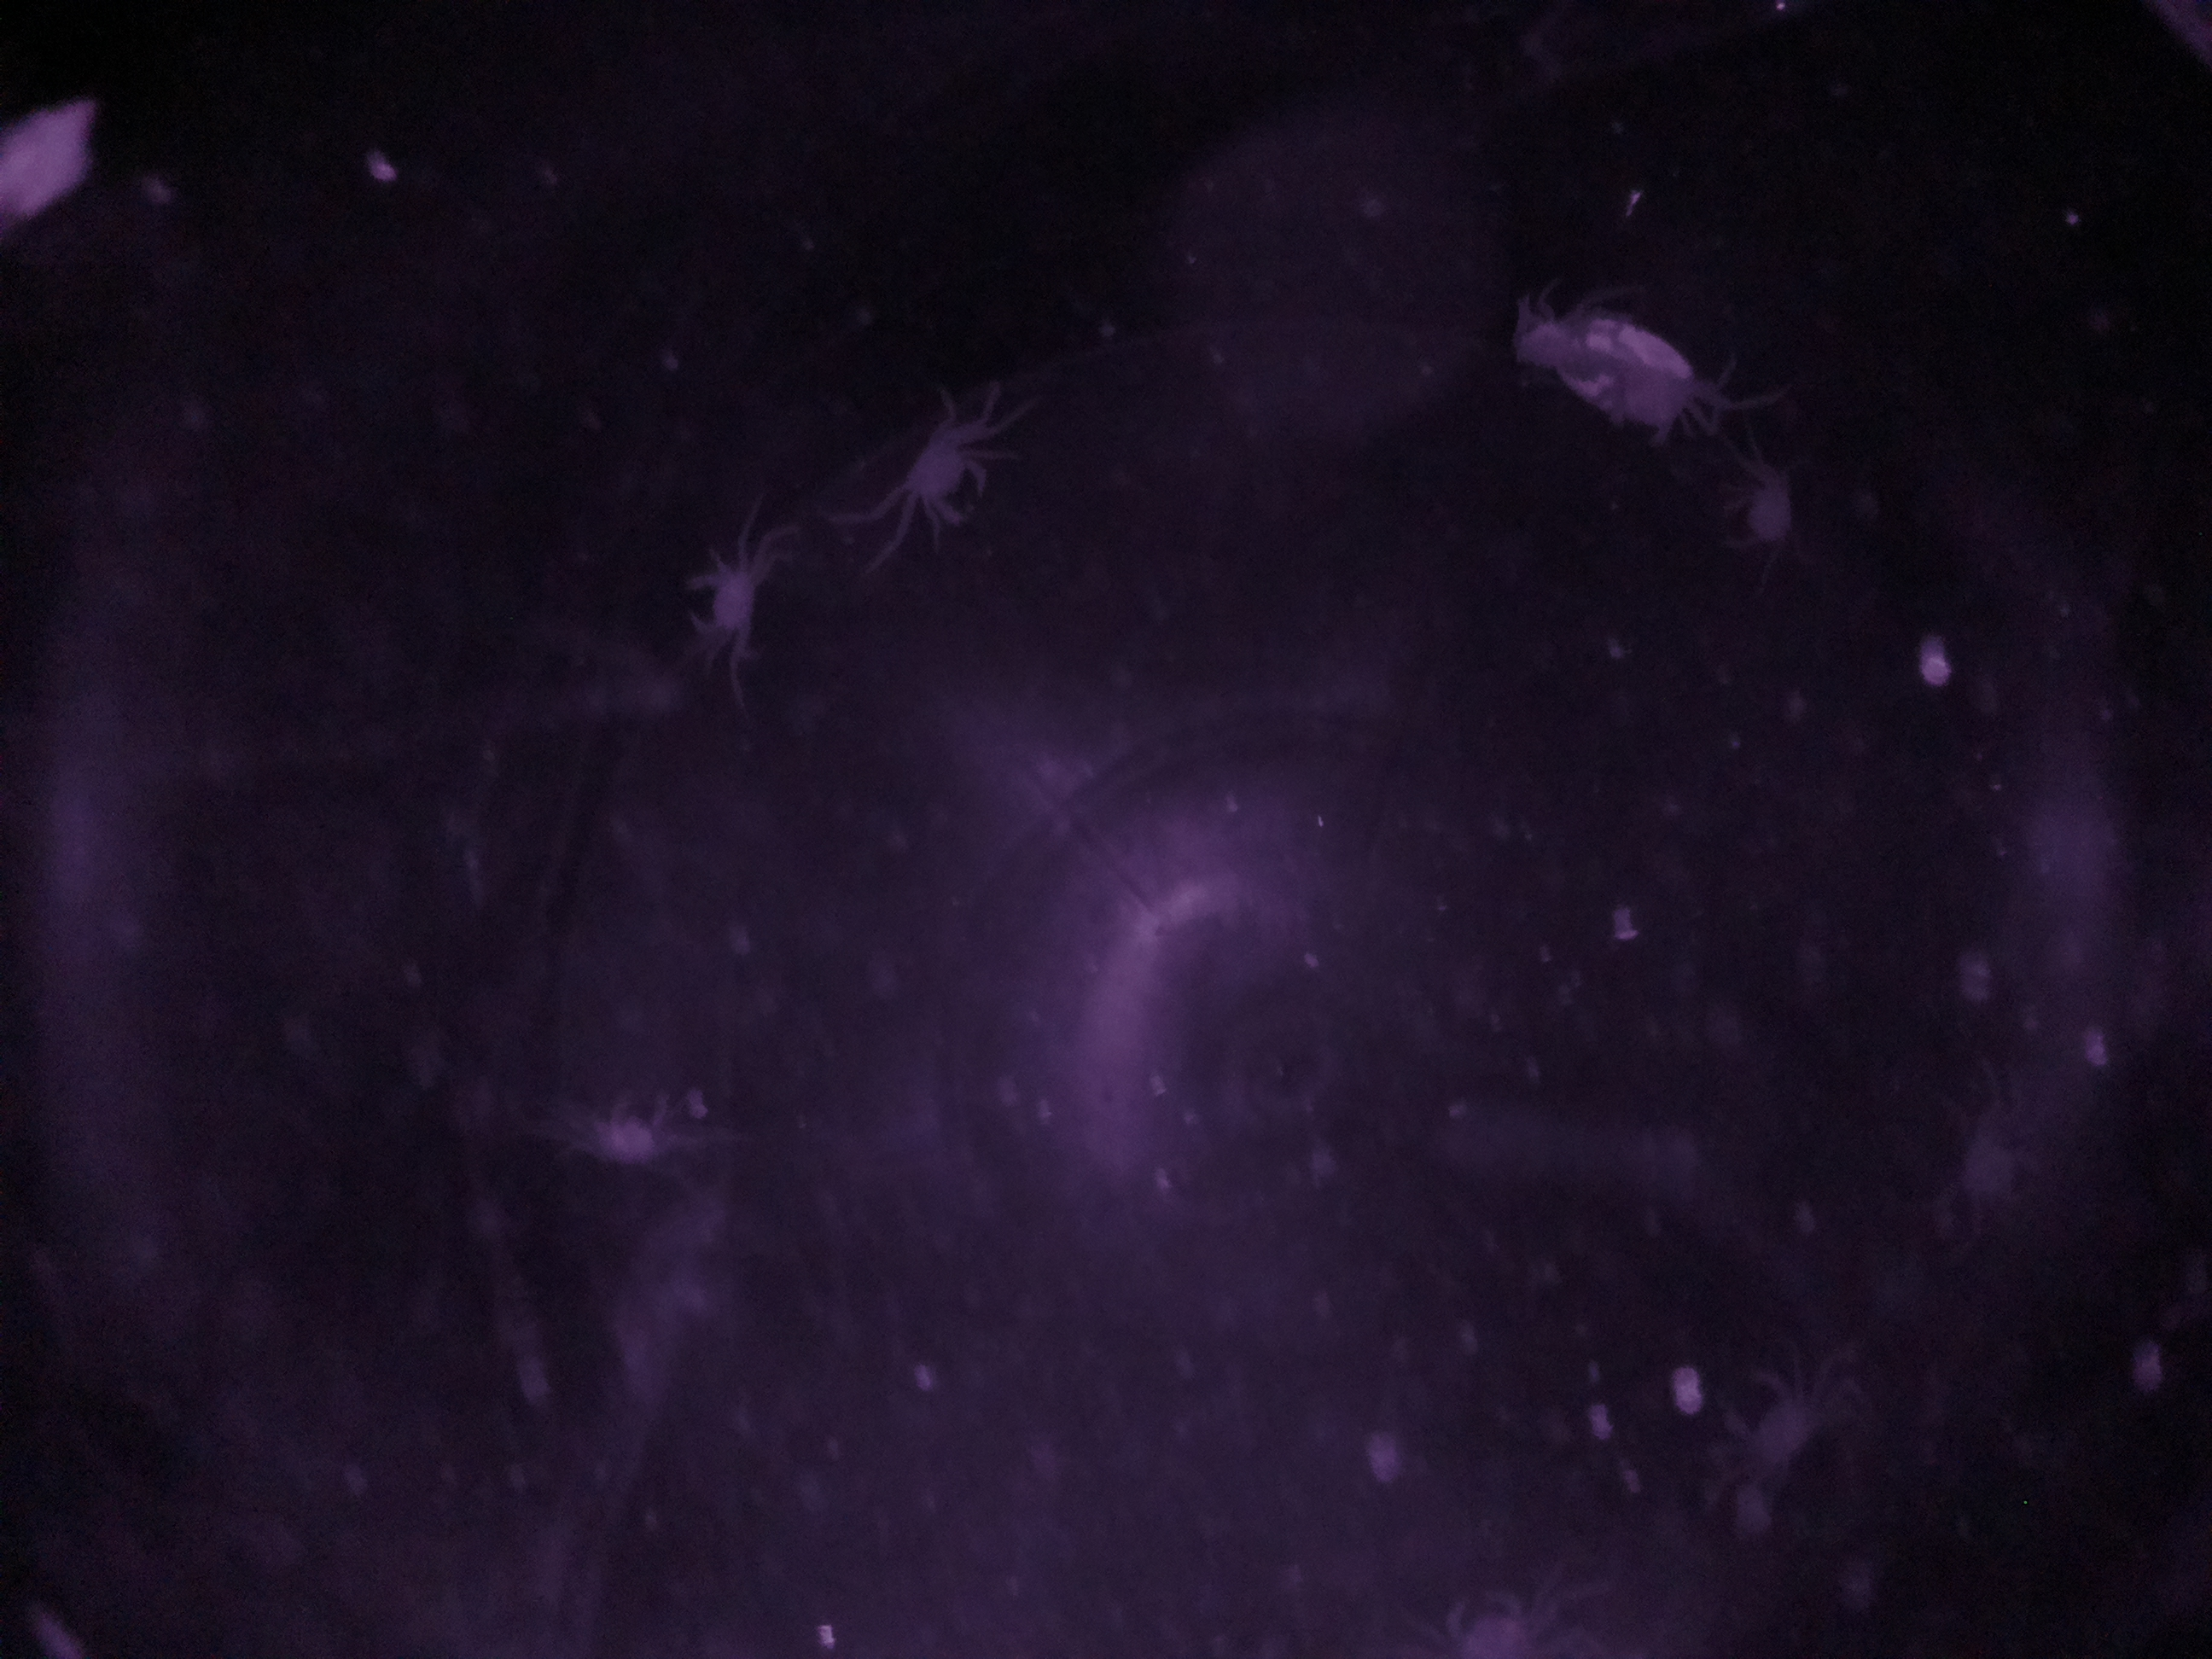Crab: (650, 538, 789, 659), (888, 413, 1003, 537)
